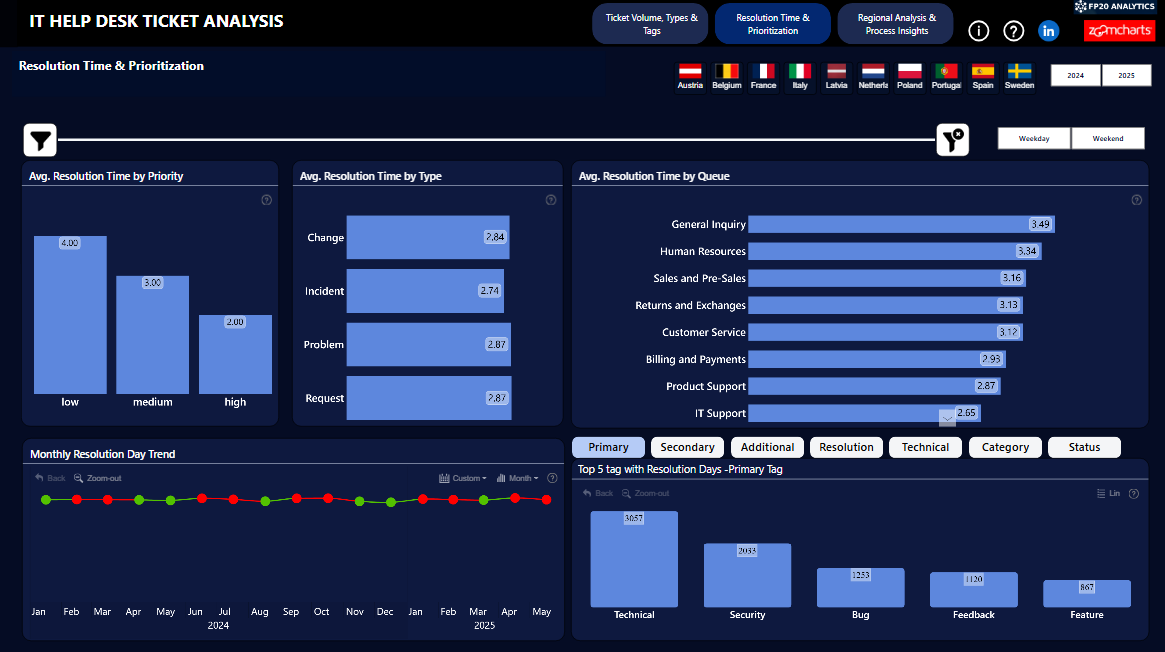

What the dashboard file says about the page in this screenshot:
{"tool":"powerbi","page":{"name":"Resolution Time & Prioritization","canvas":[1920,1080],"ordinal":1},"visuals":[{"type":"group","id":"g1","title":"Group 1","box":[25,136.7,1551.7,111.7],"z":0},{"type":"shape","box":[83.2,136.7,1437.9,110.3],"z":0,"group":"g1"},{"type":"actionButton","box":[935.7,718.6,120,40],"z":0,"group":"g2"},{"type":"textbox","box":[0,0,31.6,83.5],"z":1000},{"type":"image","box":[1521.1,164.3,55.2,55.2],"z":1000,"group":"g1"},{"type":"actionButton","box":[1065.7,718.6,120,40],"z":1000,"group":"g2"},{"type":"image","box":[25,164.5,55.7,55.7],"z":2000,"group":"g1"},{"type":"actionButton","box":[1195.7,718.6,120,40],"z":2000,"group":"g2"},{"type":"textbox","title":"IT HELP DESK TICKET ANALYSIS","box":[31.8,0,1888.2,83],"z":3000},{"type":"actionButton","box":[1325.7,718.6,120,40],"z":3000,"group":"g2"},{"type":"actionButton","box":[1455.7,718.6,120,40],"z":4000,"group":"g2"},{"type":"ZoomChartsDrillDownTimelinePro7F6C01BA1C534E9AB4A6BCCB44F591","title":"Monthly Resolution Day  Trend","fields":{"Category":["dim_date.Date.Variation.Date Hierarchy.Year","dim_date.Date.Variation.Date Hierarchy.Quarter","dim_date.Date.Variation.Date Hierarchy.Month","dim_date.Date.Variation.Date Hierarchy.Day"],"DateValue":["Min(dim_date.Date)"],"Values1":["dax_measures.Avg Resolution Days"]},"box":[39.7,724.1,889.7,332.8],"z":4000},{"type":"textbox","title":"Resolution Time & Prioritization","box":[23.3,90,973.3,75],"z":5000},{"type":"actionButton","box":[1585.7,718.6,120,40],"z":5000,"group":"g2"},{"type":"ZoomChartsFacetChartPaidE77E4ED357DC402ABA005987437CF500","title":"Avg. Resolution Time by Priority","fields":{"Category":["fact_tickets.Priority"],"Values1":["dax_measures.Avg Resolution Days"]},"box":[38.3,268.3,431.7,438.3],"z":6000},{"type":"actionButton","box":[1715.7,718.6,120,40],"z":6000,"group":"g2"},{"type":"group","id":"g2","title":"Tag Buttons Primary","box":[935.7,718.6,900,40],"z":10000},{"type":"image","box":[1758,35.2,162.5,45.5],"z":17000},{"type":"image","box":[1758,0,148.4,34.8],"z":19000},{"type":"image","box":[1700.4,34.8,45.4,45.4],"z":20000},{"type":"actionButton","box":[1585.4,34.8,45.4,45.4],"z":21000},{"type":"actionButton","box":[1642.9,34.8,45.4,45.4],"z":22000},{"type":"slicer","fields":{"Values":["dim_date.Year"]},"box":[1700,105,215,50],"z":23000},{"type":"ZoomChartsFacetChartPaidE77E4ED357DC402ABA005987437CF500","title":"Top 5 tag  with Resolution Days  -Primary Tag","fields":{"Category":["fact_tickets.Primary Tag"],"RuleColor":["dax_measures.Avg Resolution Days"],"Values1":["dax_measures.Total Tickets"]},"box":[940,756.7,948.3,300],"z":24000},{"type":"ZoomChartsDrillDownComboBarProE77E4ED357DC402ABA005987437CF8","title":"Avg. Resolution Time by Type","fields":{"Values1":["dax_measures.Avg Resolution Days"],"Category":["fact_tickets.Type"]},"box":[481.7,268.3,445,436.7],"z":31000},{"type":"ZoomChartsDrillDownComboBarProE77E4ED357DC402ABA005987437CF8","title":"Avg. Resolution Time by Queue ","fields":{"Values1":["dax_measures.Avg Resolution Days"],"Category":["fact_tickets.Queue"]},"box":[940,268.3,948.3,440],"z":32000},{"type":"slicer","fields":{"Values":["dim_date.Weekend Flag"]},"box":[1630,165,290,50],"z":33000},{"type":"pageNavigator","box":[968.3,6.7,605,73.3],"z":34000}]}

Visuals, with their boxes in screenshot pixels (x1, y1, x2, y2), scaled from the page's 1920x1080 canvas onto the 1165x652 screenshot:
"Group 1" group: locate(15, 83, 957, 150)
shape: locate(50, 83, 923, 149)
actionButton: locate(568, 434, 641, 458)
textbox: locate(0, 0, 19, 50)
image: locate(923, 99, 956, 133)
actionButton: locate(647, 434, 719, 458)
image: locate(15, 99, 49, 133)
actionButton: locate(726, 434, 798, 458)
"IT HELP DESK TICKET ANALYSIS" textbox: locate(19, 0, 1164, 50)
actionButton: locate(804, 434, 877, 458)
actionButton: locate(883, 434, 956, 458)
"Monthly Resolution Day  Trend" ZoomChartsDrillDownTimelinePro7F6C01BA1C534E9AB4A6BCCB44F591: locate(24, 437, 564, 638)
"Resolution Time & Prioritization" textbox: locate(14, 54, 605, 100)
actionButton: locate(962, 434, 1035, 458)
"Avg. Resolution Time by Priority" ZoomChartsFacetChartPaidE77E4ED357DC402ABA005987437CF500: locate(23, 162, 285, 427)
actionButton: locate(1041, 434, 1114, 458)
"Tag Buttons Primary" group: locate(568, 434, 1114, 458)
image: locate(1067, 21, 1164, 49)
image: locate(1067, 0, 1157, 21)
image: locate(1032, 21, 1059, 48)
actionButton: locate(962, 21, 990, 48)
actionButton: locate(997, 21, 1024, 48)
slicer - dim_date.Year: locate(1032, 63, 1162, 94)
"Top 5 tag  with Resolution Days  -Primary Tag" ZoomChartsFacetChartPaidE77E4ED357DC402ABA005987437CF500: locate(570, 457, 1146, 638)
"Avg. Resolution Time by Type" ZoomChartsDrillDownComboBarProE77E4ED357DC402ABA005987437CF8: locate(292, 162, 562, 426)
"Avg. Resolution Time by Queue " ZoomChartsDrillDownComboBarProE77E4ED357DC402ABA005987437CF8: locate(570, 162, 1146, 428)
slicer - dim_date.Weekend Flag: locate(989, 100, 1164, 130)
pageNavigator: locate(588, 4, 955, 48)
